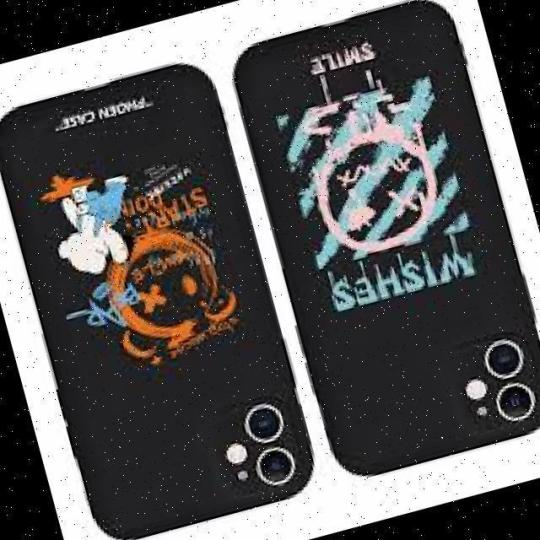phone: (1, 47, 317, 539), (235, 23, 540, 483)
